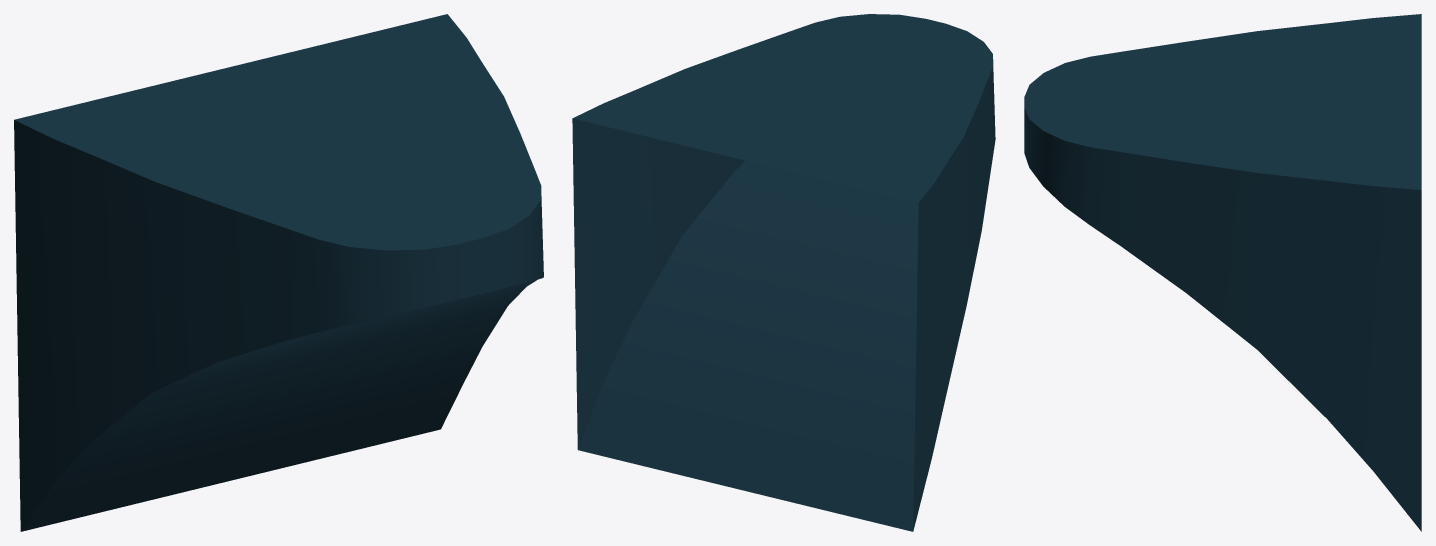
Rendered from W1_Column_Top_Detail.fbx.
3 views of the same model, side by side, from view 1: azimuth 30°, elevation 25°; view 2: azimuth 150°, elevation 25°; view 3: azimuth 270°, elevation 25° (orthographic). The views are drawn at different scales.
Visible parts, largest first — view 1: W1_Column_Top_Detail.001; view 2: W1_Column_Top_Detail.001; view 3: W1_Column_Top_Detail.001.
Part boxes in pixels (box(x1,y1,x2,y2)): W1_Column_Top_Detail.001: box(14, 14, 543, 531); W1_Column_Top_Detail.001: box(572, 14, 995, 531); W1_Column_Top_Detail.001: box(1024, 14, 1421, 531).
Bounding box in the file's own units: 0.2323 × 0.212 × 0.2214.
